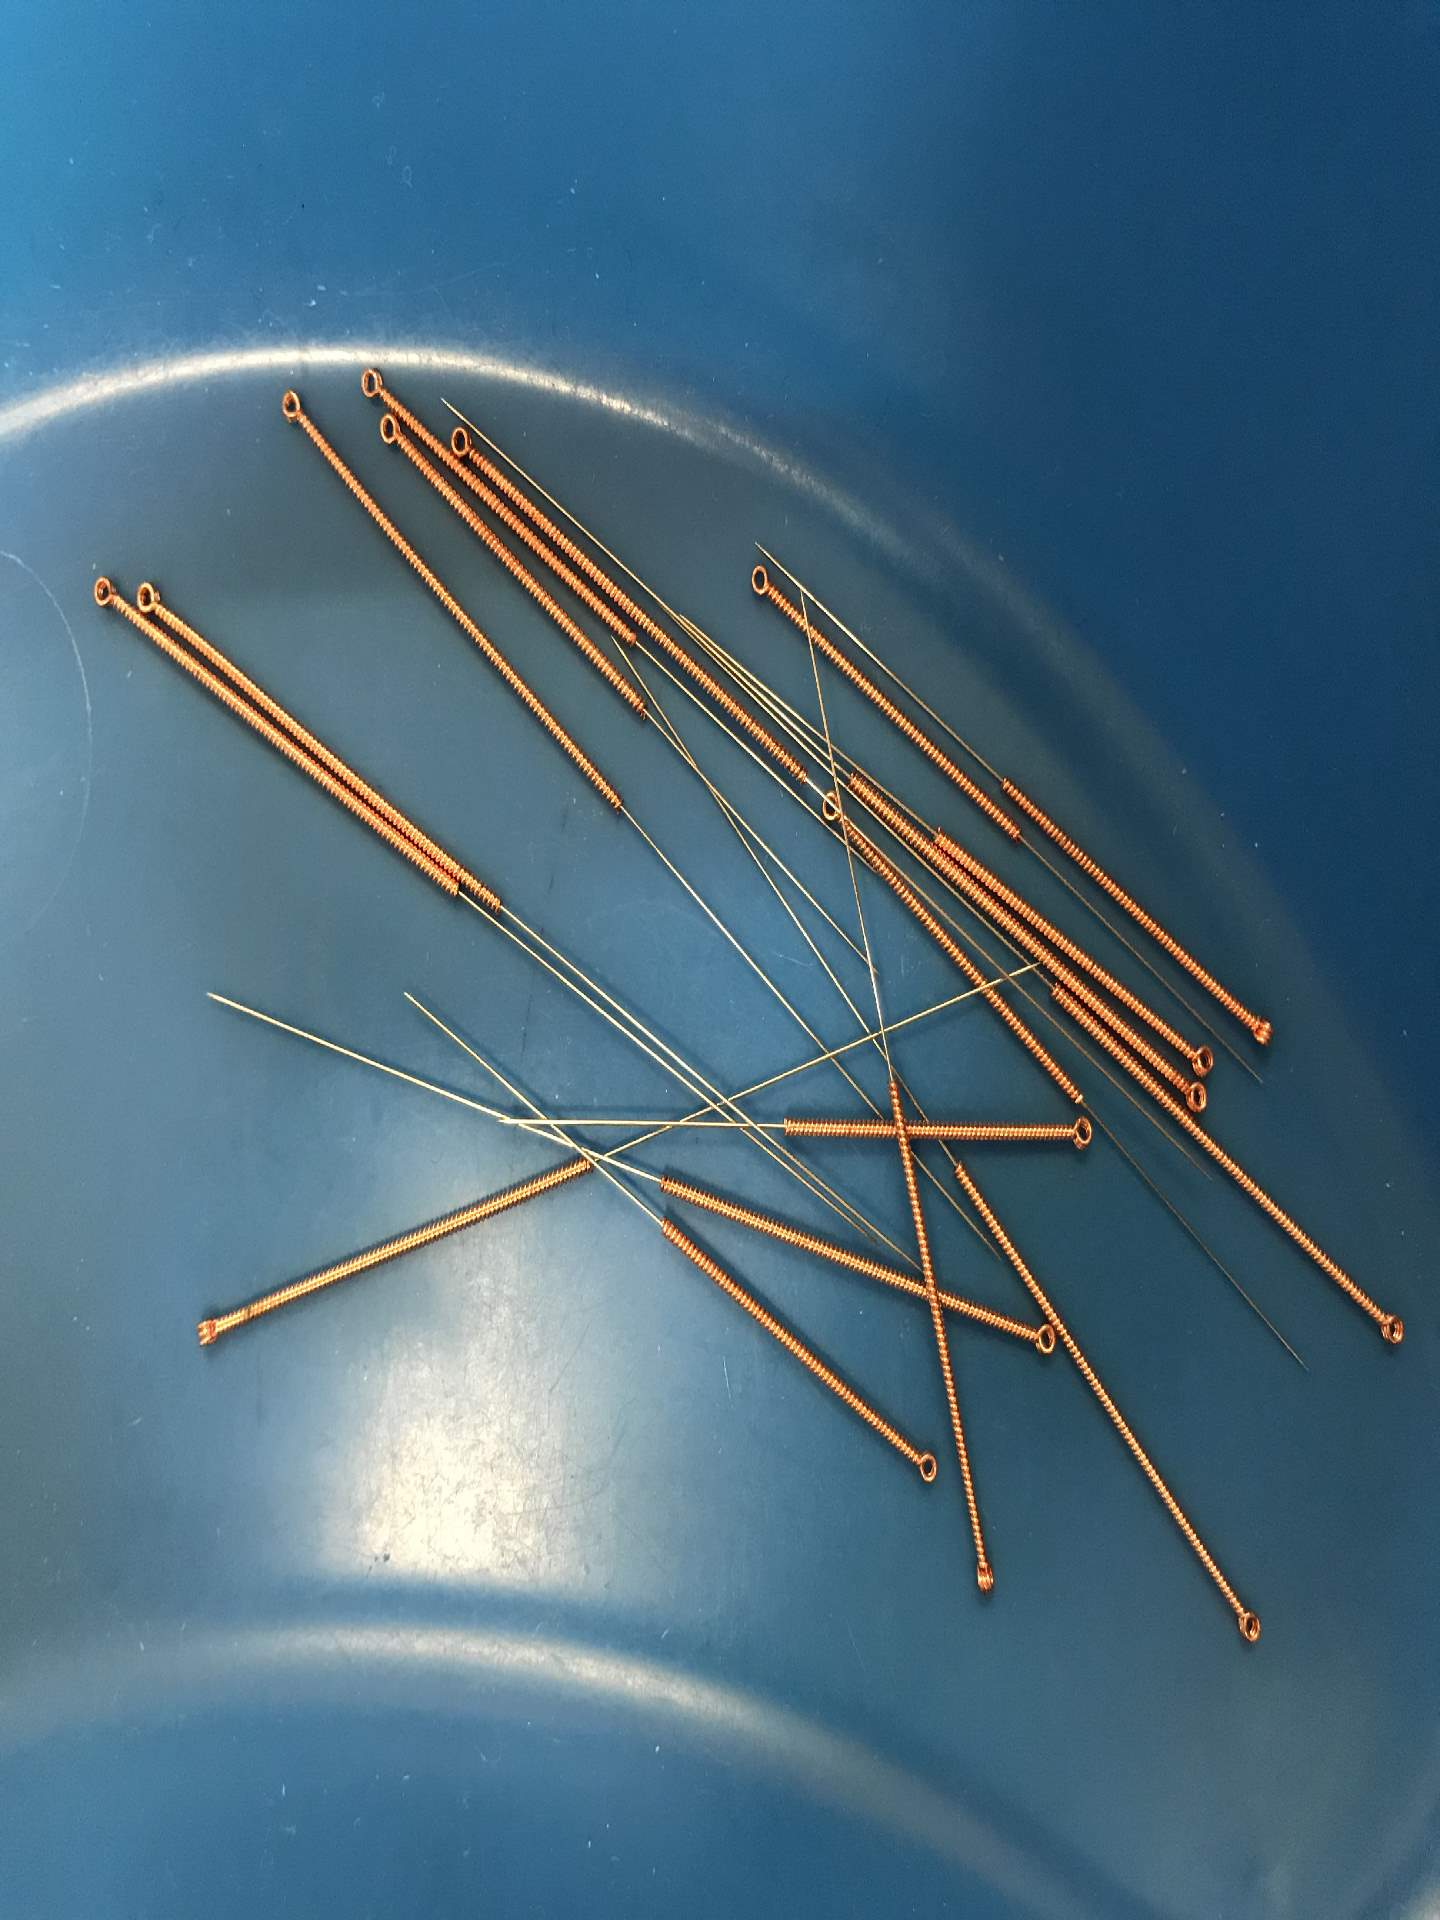needle: (953, 1541, 1016, 1615), (178, 1300, 236, 1361), (1050, 1105, 1110, 1163), (1222, 1593, 1277, 1655), (898, 1436, 950, 1497), (1363, 1299, 1414, 1358), (268, 376, 315, 431), (77, 565, 127, 615), (1236, 1002, 1283, 1055), (349, 358, 396, 410), (735, 556, 782, 608), (1009, 1318, 1060, 1364), (808, 785, 855, 831), (1180, 1036, 1227, 1082), (1175, 1075, 1216, 1119), (371, 413, 410, 452), (135, 574, 166, 620), (448, 422, 479, 463)
